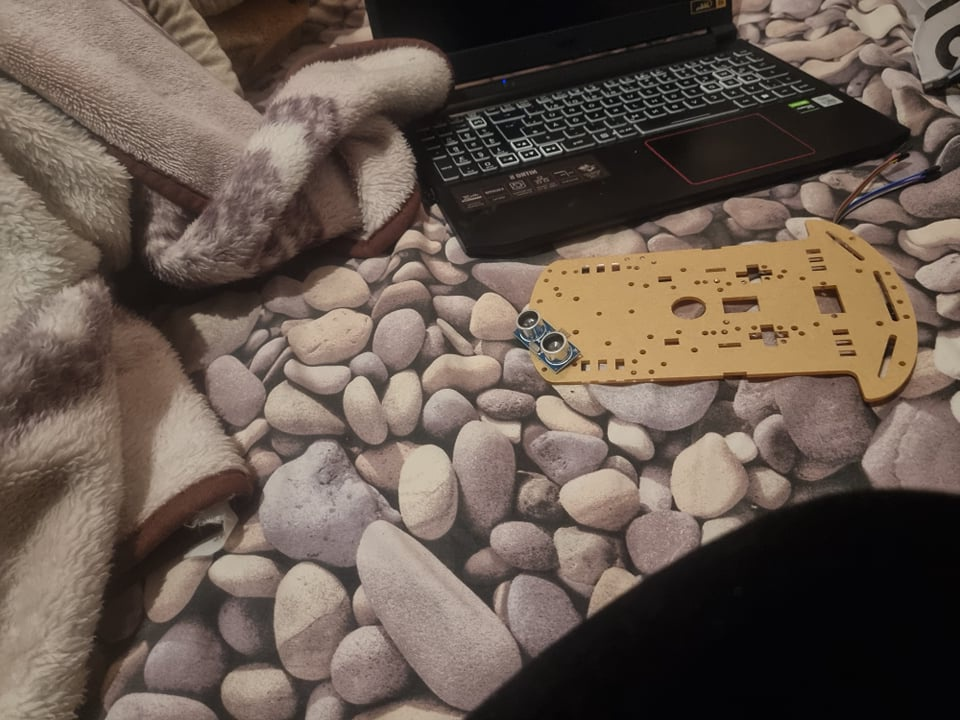SENSOR: (515, 308, 579, 370)
